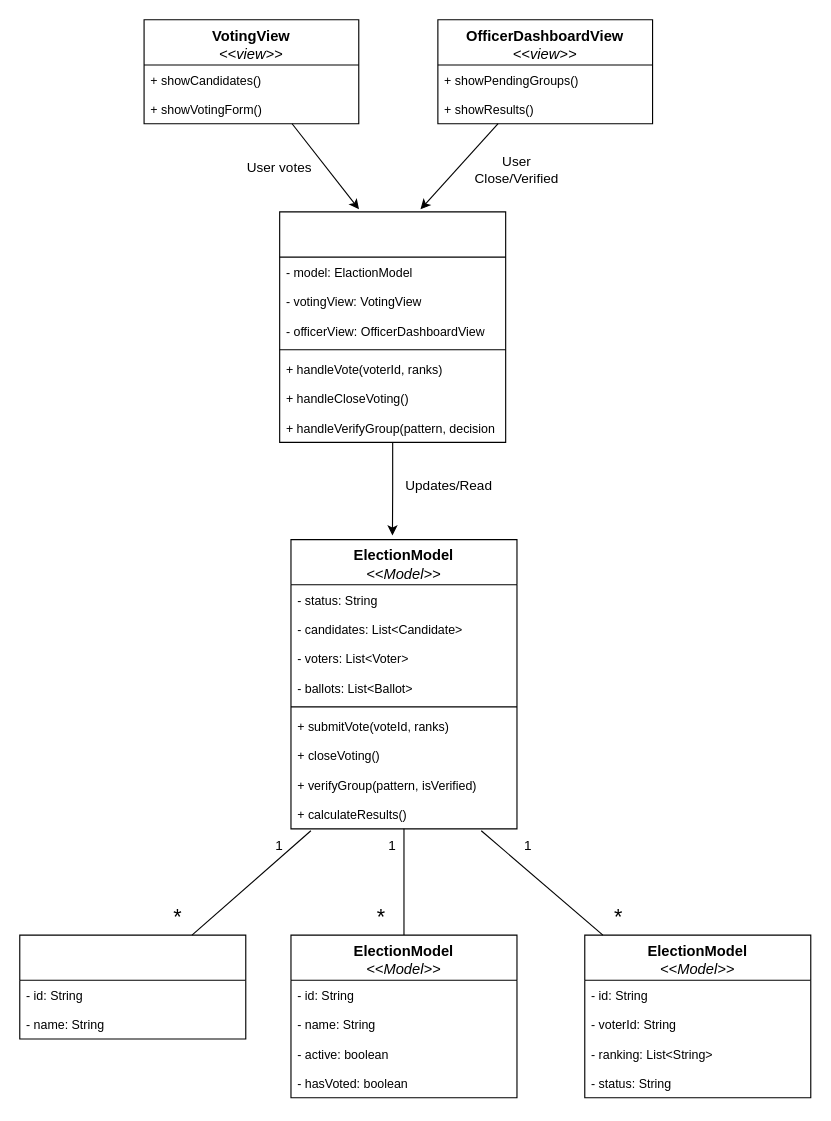
Some shapes in this 831 by 1121 pixel diagram are drawn without their labels. Each missing label, with the box of its shape:
Candidate <<Model>>: (19, 934, 246, 1039)
ElectionController <<controller>>: (279, 211, 506, 442)
